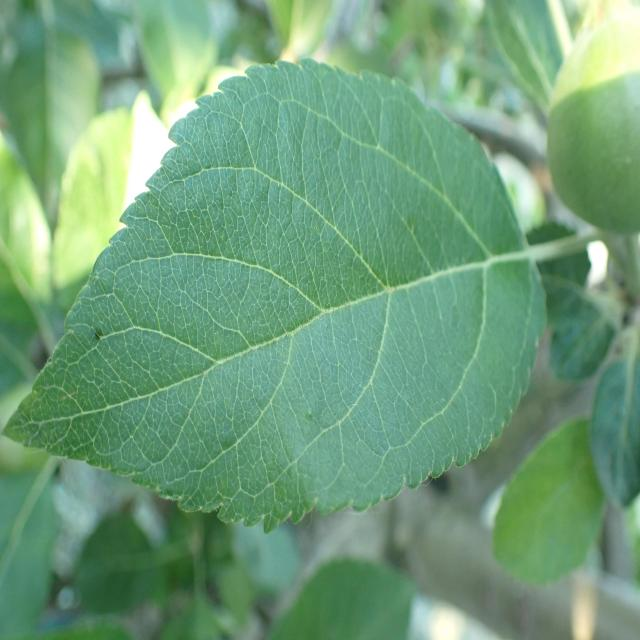healthy: (2, 58, 547, 533), (546, 2, 640, 235), (491, 416, 606, 586), (588, 356, 640, 508)
